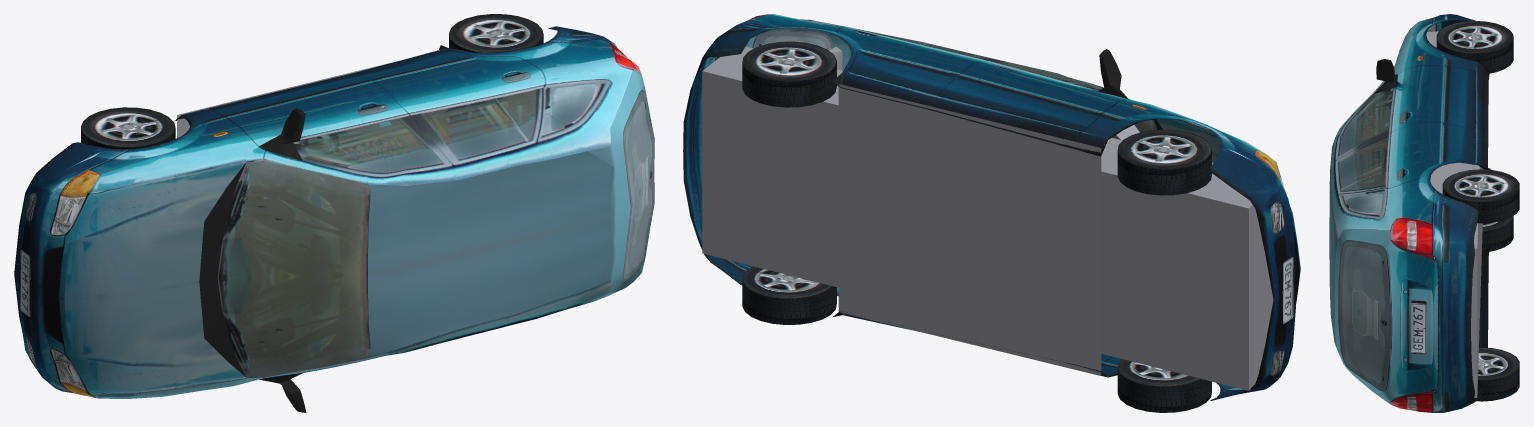
Rendered from Car_03.obj.
3 renders of one model, left to right at view 1: azimuth 30°, elevation 25°; view 2: azimuth 150°, elevation 25°; view 3: azimuth 270°, elevation 25°, orthographic. The views are drawn at different scales.
Parts seen in each view (by area): view 1: _3body, _3tyre, _3plates, _3fill, _3tyresurf; view 2: _3fill, _3body, _3tyresurf, _3tyre, _3plates; view 3: _3body, _3tyre, _3tyresurf, _3fill, _3plates.
Boxes of the visible parts, x1,y1,x2,y2 form: _3body: (14,26,654,412); _3tyre: (81,14,543,147); _3plates: (20,249,30,316); _3fill: (177,61,396,138); _3tyresurf: (81,34,543,149); _3fill: (702,46,1273,390); _3body: (683,14,1300,400); _3tyresurf: (742,61,1211,412); _3tyre: (742,41,1211,386); _3plates: (1282,257,1293,323); _3body: (1329,14,1490,412); _3tyre: (1436,21,1519,380); _3tyresurf: (1436,40,1519,401); _3fill: (1390,31,1483,397); _3plates: (1409,302,1426,353).
Bounding box in the file's own units: 4.11 × 1.96 × 1.37.
